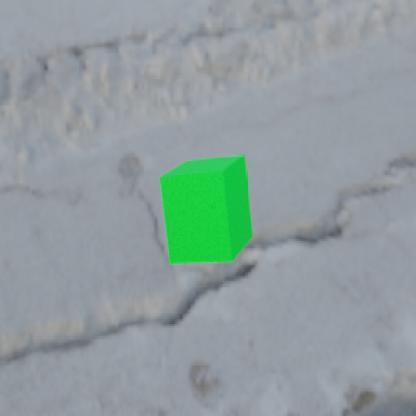cube: (158, 152, 252, 264)
